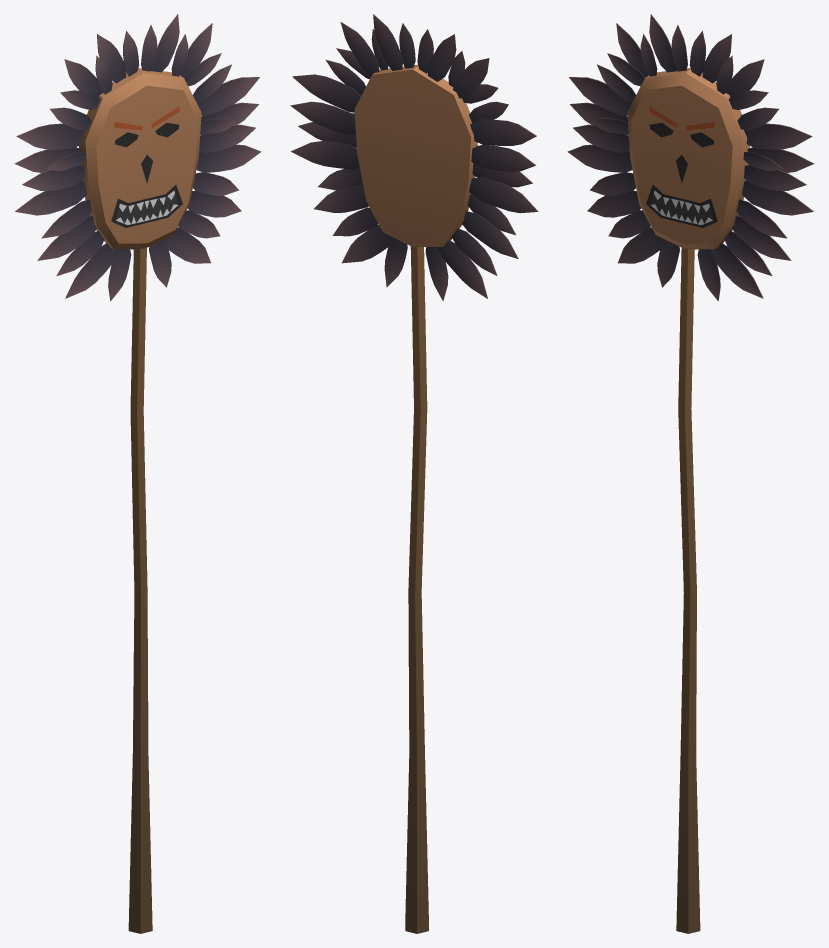
The model's file is Mask_06.fbx.
3 views of the same model, side by side, from view 1: azimuth 30°, elevation 25°; view 2: azimuth 150°, elevation 25°; view 3: azimuth 330°, elevation 25° (orthographic).
Parts seen in each view (by area): view 1: Mask_06_LOD0; view 2: Mask_06_LOD0; view 3: Mask_06_LOD0.
Part boxes in pixels (x1,y1,x2,y2): Mask_06_LOD0: [14, 14, 261, 933]; Mask_06_LOD0: [290, 14, 538, 933]; Mask_06_LOD0: [567, 14, 814, 933].
Size of what is drawn, in the model's own units: 0.4394 by 1.54 by 0.0384.
